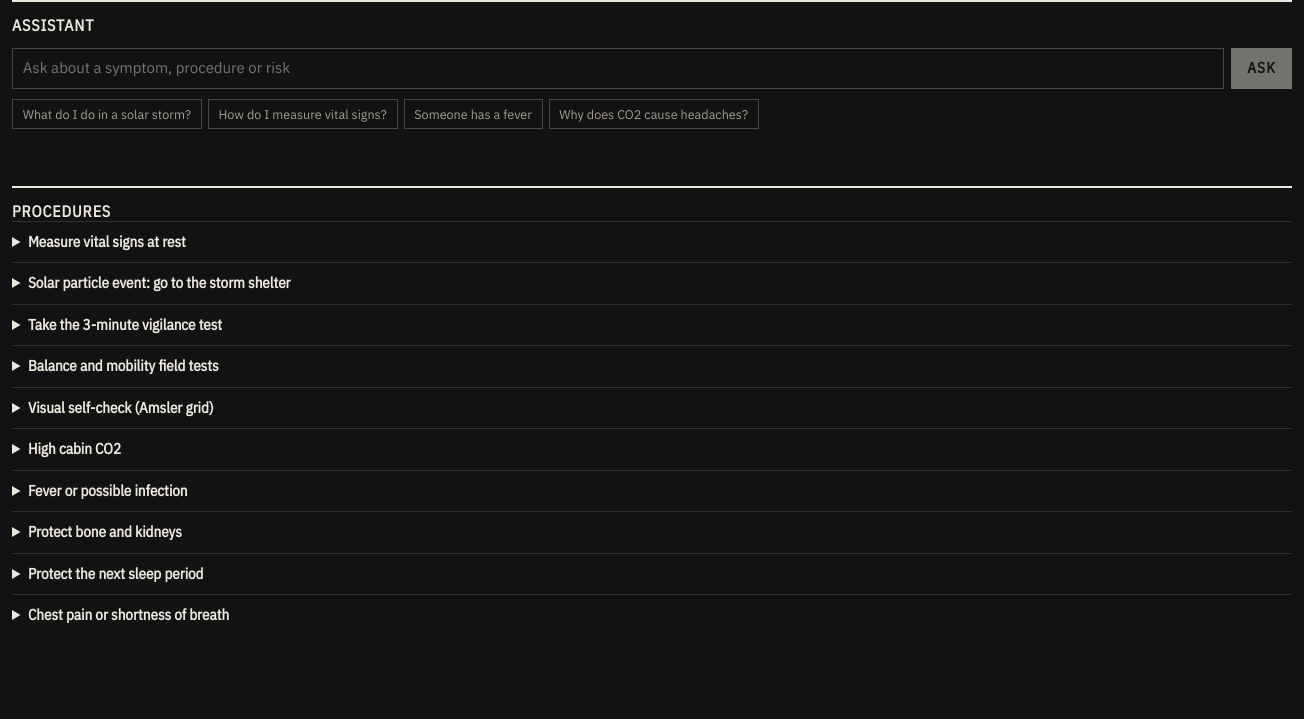
Test: assistant view › refuses to diagnose
Type "Do I have an infection?" into the field named "Question" at [618, 68], box [12,48,1224,89]
Then press Enter
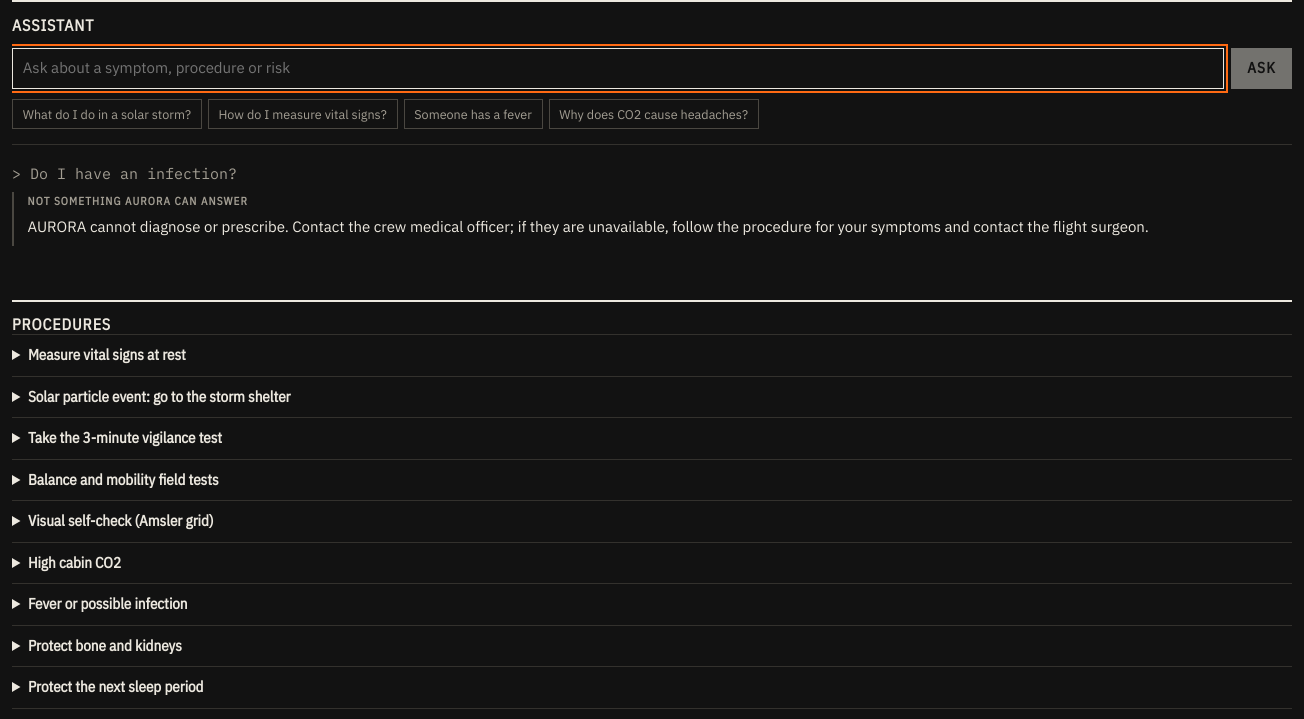
Check: the text "Not something AURORA can answer" is shown, box [28,194,248,208]
Check: the text "cannot diagnose or prescribe" is shown, box [28,217,1149,236]
